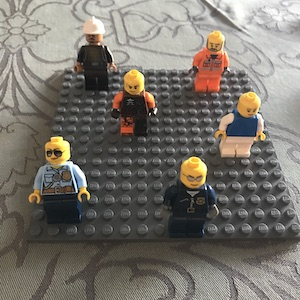Lego: (29, 135, 89, 229), (164, 154, 218, 239), (214, 90, 266, 159), (74, 13, 117, 95), (110, 70, 158, 139), (188, 30, 232, 95)
